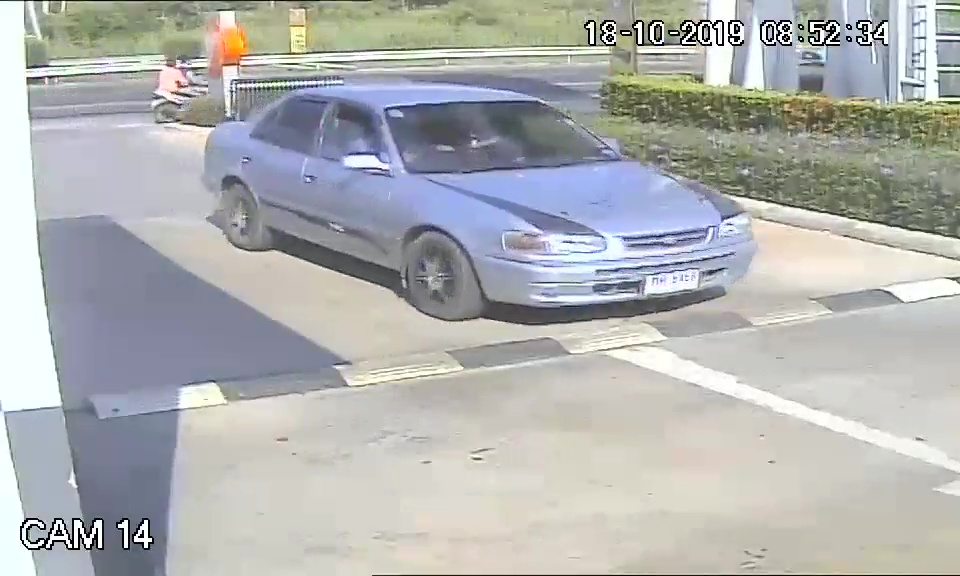sedan: (201, 83, 758, 320)
